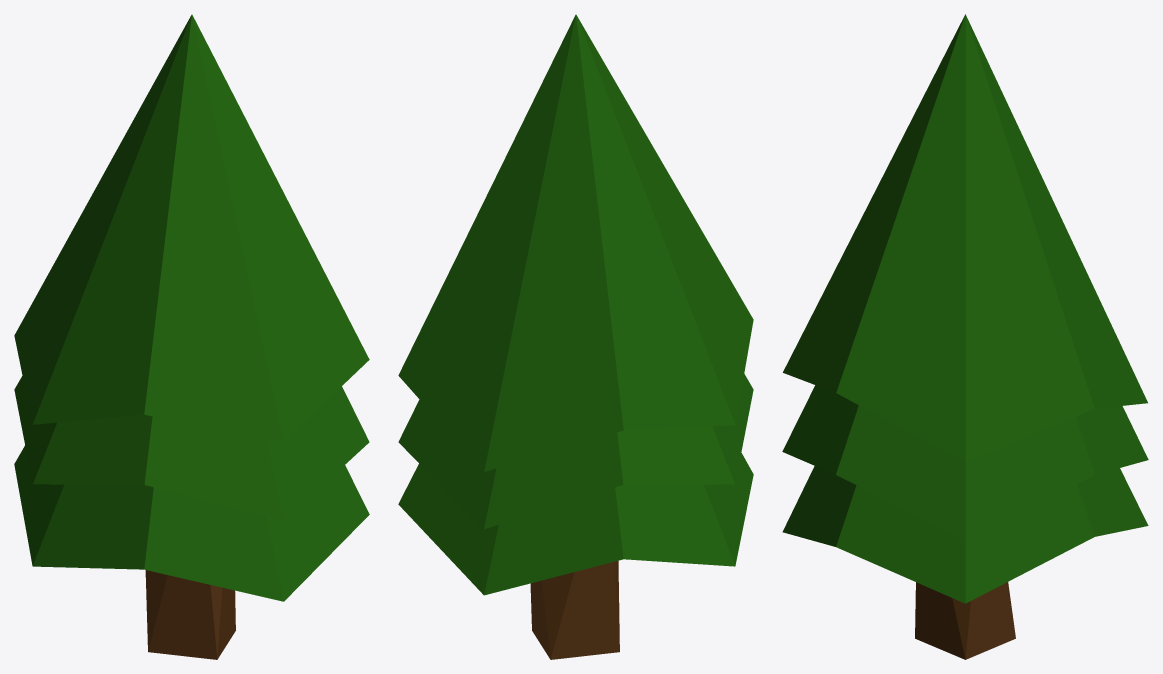
The model's file is Tree_1.glb.
3 renders of one model, left to right at view 1: azimuth 30°, elevation 25°; view 2: azimuth 150°, elevation 25°; view 3: azimuth 270°, elevation 25°, orthographic.
Parts seen in each view (by area): view 1: Cone.002, Cylinder; view 2: Cone.002, Cylinder; view 3: Cone.002, Cylinder.
Boxes of the visible parts, x1,y1,x2,y2 form: Cone.002: (14, 14, 369, 601); Cylinder: (145, 570, 235, 659); Cone.002: (398, 14, 753, 595); Cylinder: (530, 561, 619, 659); Cone.002: (782, 14, 1148, 603); Cylinder: (915, 582, 1015, 659).
Bounding box in the file's own units: 2 × 3.76 × 2.
Materials: 2 (2 with a texture image).
